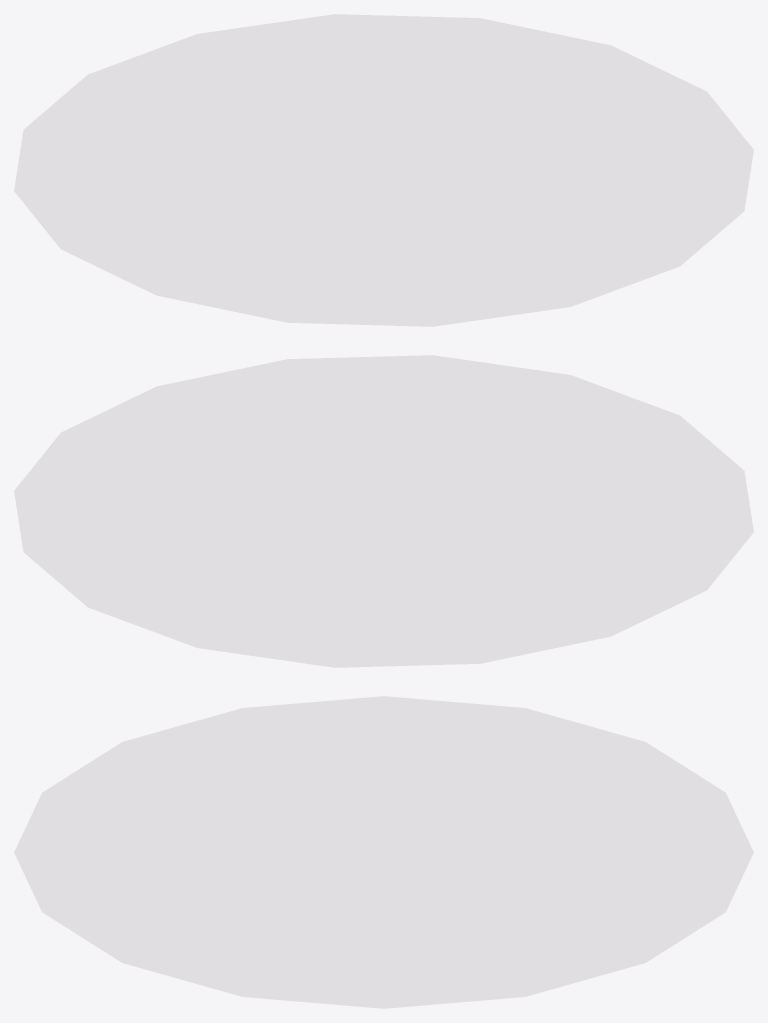
File: yuanpan.FBX
3 renders of one model, top to bottom at view 1: azimuth 30°, elevation 25°; view 2: azimuth 150°, elevation 25°; view 3: azimuth 270°, elevation 25°, orthographic.
Parts seen in each view (by area): view 1: Cylinder001; view 2: Cylinder001; view 3: Cylinder001.
Boxes of the visible parts, bbox=[...] form: Cylinder001: bbox=[14, 14, 753, 326]; Cylinder001: bbox=[14, 355, 753, 667]; Cylinder001: bbox=[14, 696, 753, 1008].
Bounding box in the file's own units: 145 × 4.11e-14 × 145.
